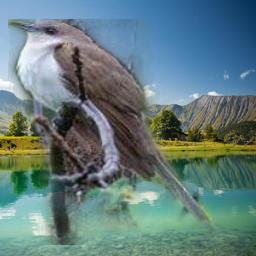Cuckoo: (8, 19, 224, 245)
